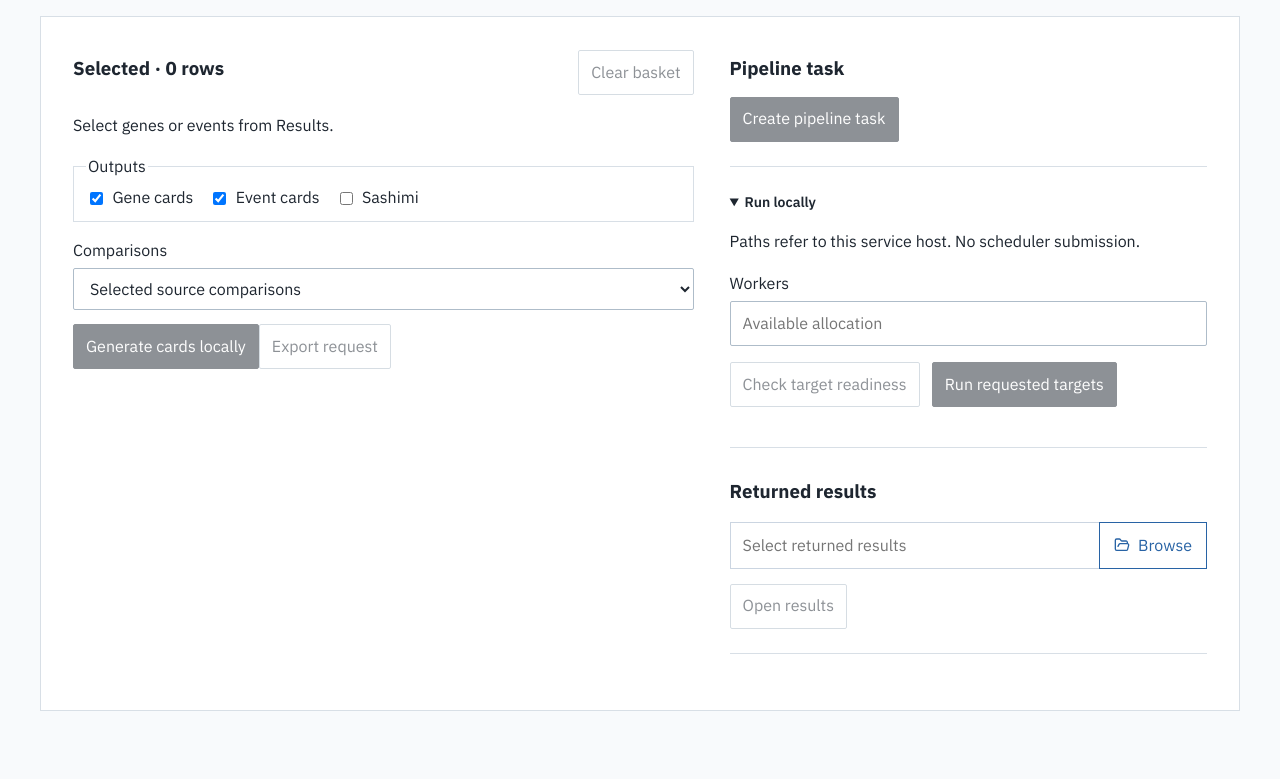
Test: does not label a tampered imported result as complete
Type "/changed/result-manifest.json" into the field named "Result manifest or directory" at (915, 545), box [730, 522, 1100, 569]
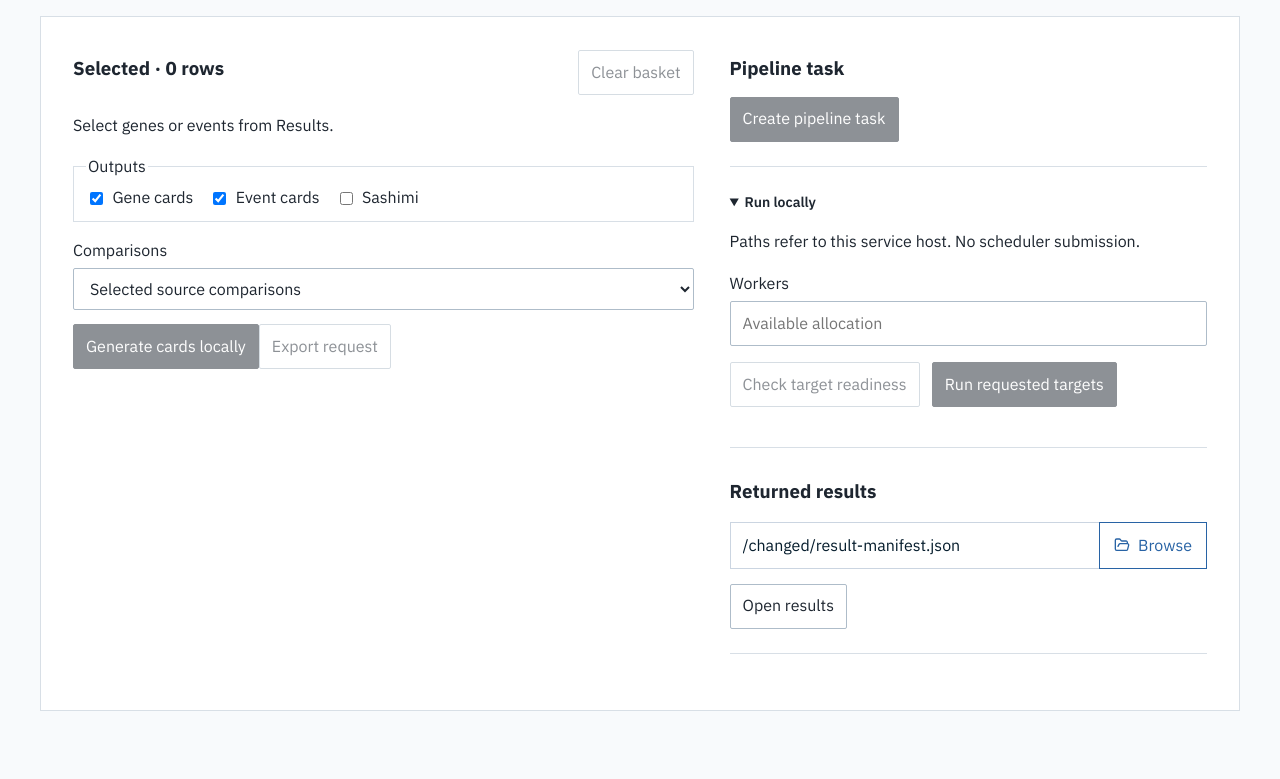
Click the button with aria-label "Verify and import target results" at (788, 606), box [730, 584, 847, 629]
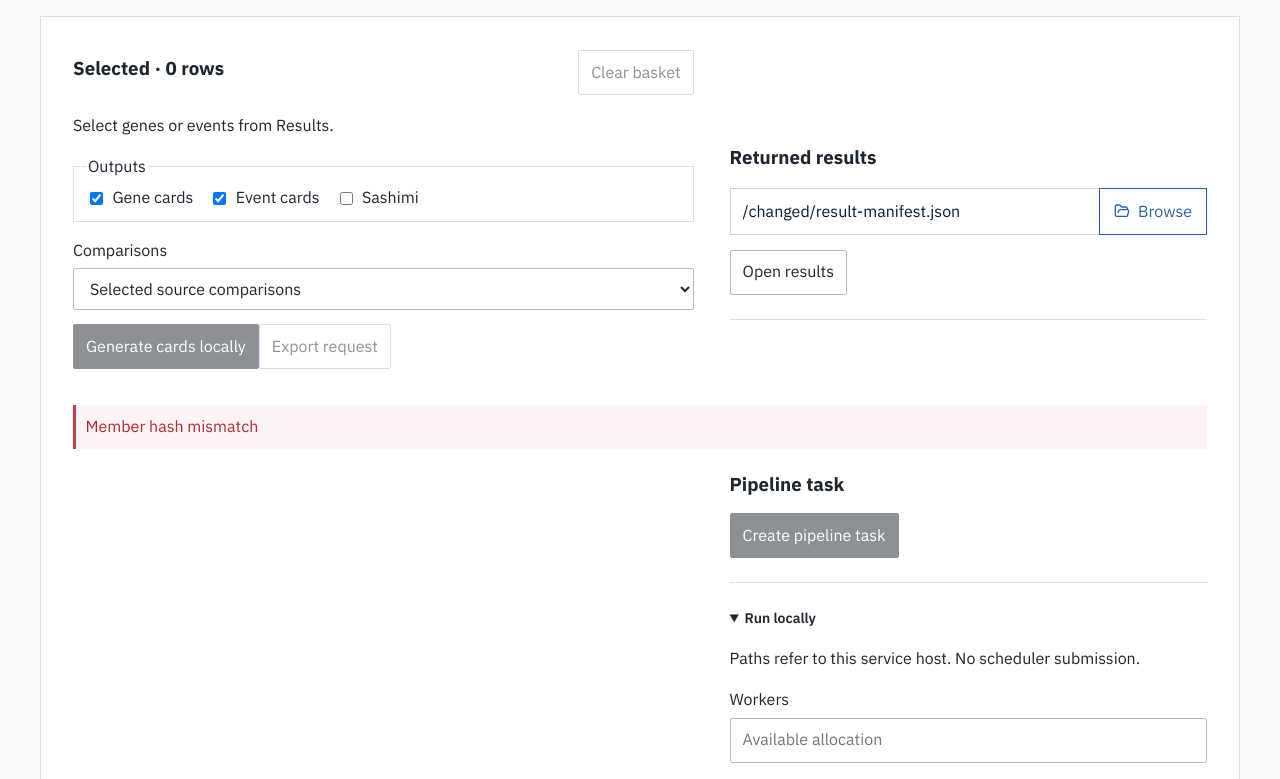
Expected: the message reads "Member hash mismatch", [86, 416, 258, 436]
